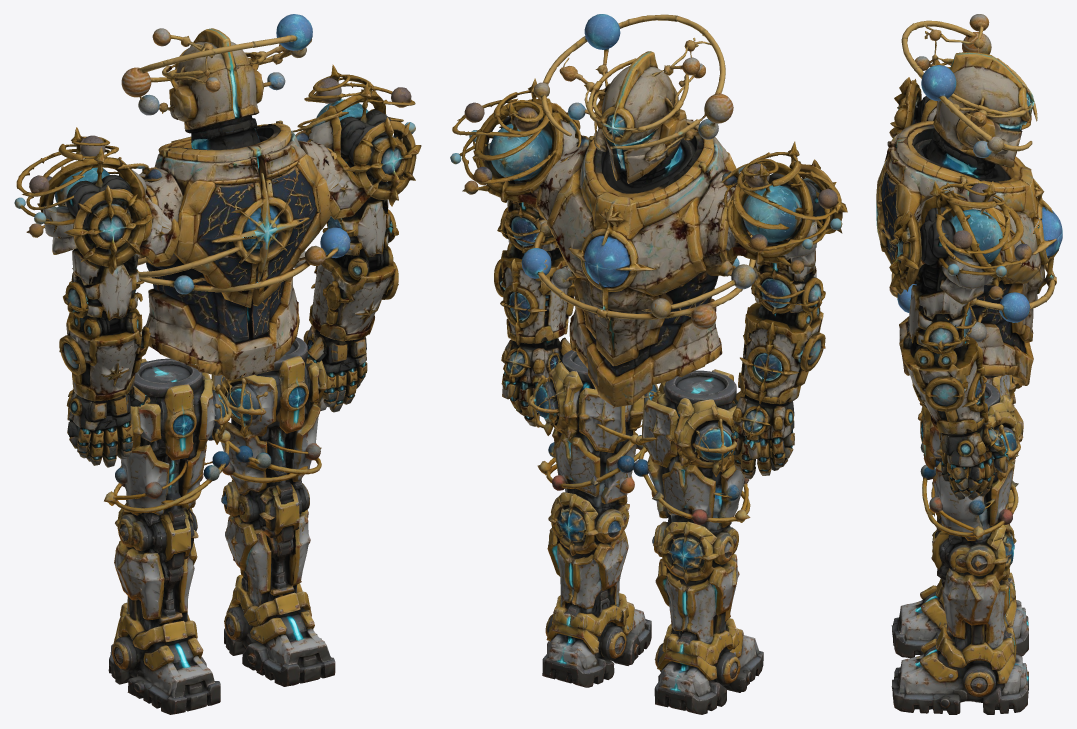
Rendered from Gear_T19.glb.
The picture shows the model from 3 angles, left to right: view 1: azimuth 30°, elevation 25°; view 2: azimuth 150°, elevation 25°; view 3: azimuth 270°, elevation 25°; orthographic projection. The views are drawn at different scales.
Visible parts, largest first — view 1: Torso_Upper, ArmL_Upper, ArmR_Upper, LegL_Upper, LegR_Upper, Head, LegL_Foot, LegR_Foot, LegR_Lower, LegL_Lower, ArmL_Lower, ArmR_Lower (+3 smaller); view 2: Torso_Upper, LegL_Upper, ArmL_Upper, Head, LegR_Upper, ArmR_Upper, LegL_Foot, LegR_Foot, LegL_Lower, LegR_Lower, ArmL_Lower, ArmR_Lower (+3 smaller); view 3: Torso_Upper, ArmR_Upper, Head, LegR_Foot, LegR_Upper, LegR_Lower, ArmR_Lower, ArmR_Hand, LegL_Foot, ArmL_Upper, Torso_Lower, LegL_Upper.
Boxes of the visible parts, bbox=[...] form: Torso_Upper: bbox=[137, 113, 350, 365]; ArmL_Upper: bbox=[14, 127, 179, 321]; ArmR_Upper: bbox=[292, 64, 421, 262]; LegL_Upper: bbox=[104, 358, 231, 523]; LegR_Upper: bbox=[208, 337, 326, 497]; Head: bbox=[121, 14, 312, 132]; LegL_Foot: bbox=[108, 602, 220, 714]; LegR_Foot: bbox=[224, 575, 335, 686]; LegR_Lower: bbox=[221, 480, 310, 592]; LegL_Lower: bbox=[114, 503, 198, 619]; ArmL_Lower: bbox=[59, 308, 150, 400]; ArmR_Lower: bbox=[309, 249, 398, 341]; Torso_Upper: bbox=[521, 119, 755, 376]; LegL_Upper: bbox=[633, 369, 750, 537]; ArmL_Upper: bbox=[721, 141, 847, 313]; Head: bbox=[533, 14, 733, 158]; LegR_Upper: bbox=[528, 350, 658, 511]; ArmR_Upper: bbox=[450, 78, 588, 252]; LegL_Foot: bbox=[654, 618, 763, 714]; LegR_Foot: bbox=[542, 592, 651, 687]; LegL_Lower: bbox=[652, 521, 739, 633]; LegR_Lower: bbox=[547, 496, 629, 606]; ArmL_Lower: bbox=[738, 302, 825, 405]; ArmR_Lower: bbox=[494, 243, 575, 351]; Torso_Upper: bbox=[876, 120, 1062, 375]; ArmR_Upper: bbox=[889, 181, 1031, 353]; Head: bbox=[901, 14, 1037, 157]; LegR_Foot: bbox=[891, 625, 1028, 714]; LegR_Upper: bbox=[918, 382, 1023, 541]; LegR_Lower: bbox=[931, 525, 1016, 639]; ArmR_Lower: bbox=[901, 335, 988, 434]; ArmR_Hand: bbox=[939, 421, 1008, 500]; LegL_Foot: bbox=[891, 572, 1028, 658]; ArmL_Upper: bbox=[889, 59, 1031, 137]; Torso_Lower: bbox=[902, 342, 1033, 385]; LegL_Upper: bbox=[918, 375, 1021, 456].
Bounding box in the file's own units: 3.92 × 6.25 × 1.66.
Materials: 3 (3 with a texture image).
